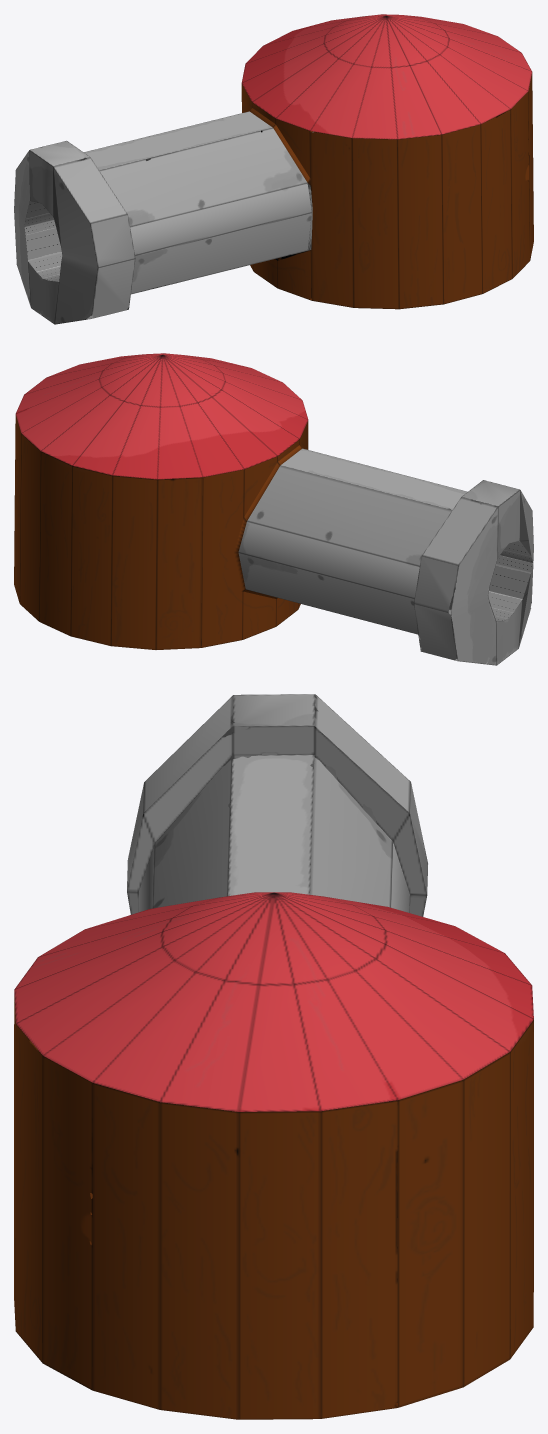
The model's file is Gun_Head_2.0.fbx.
3 renders of one model, top to bottom at view 1: azimuth 30°, elevation 25°; view 2: azimuth 150°, elevation 25°; view 3: azimuth 270°, elevation 25°, orthographic. The views are drawn at different scales.
Visible parts, largest first — view 1: pPlane2; view 2: pPlane2; view 3: pPlane2.
Boxes of the visible parts, x1,y1,x2,y2 form: pPlane2: (14,14,533,324); pPlane2: (14,353,533,665); pPlane2: (14,694,533,1419).
Size of the model in its own units: 11.39 by 5.36 by 6.02.
Materials: 2 (2 with a texture image).
